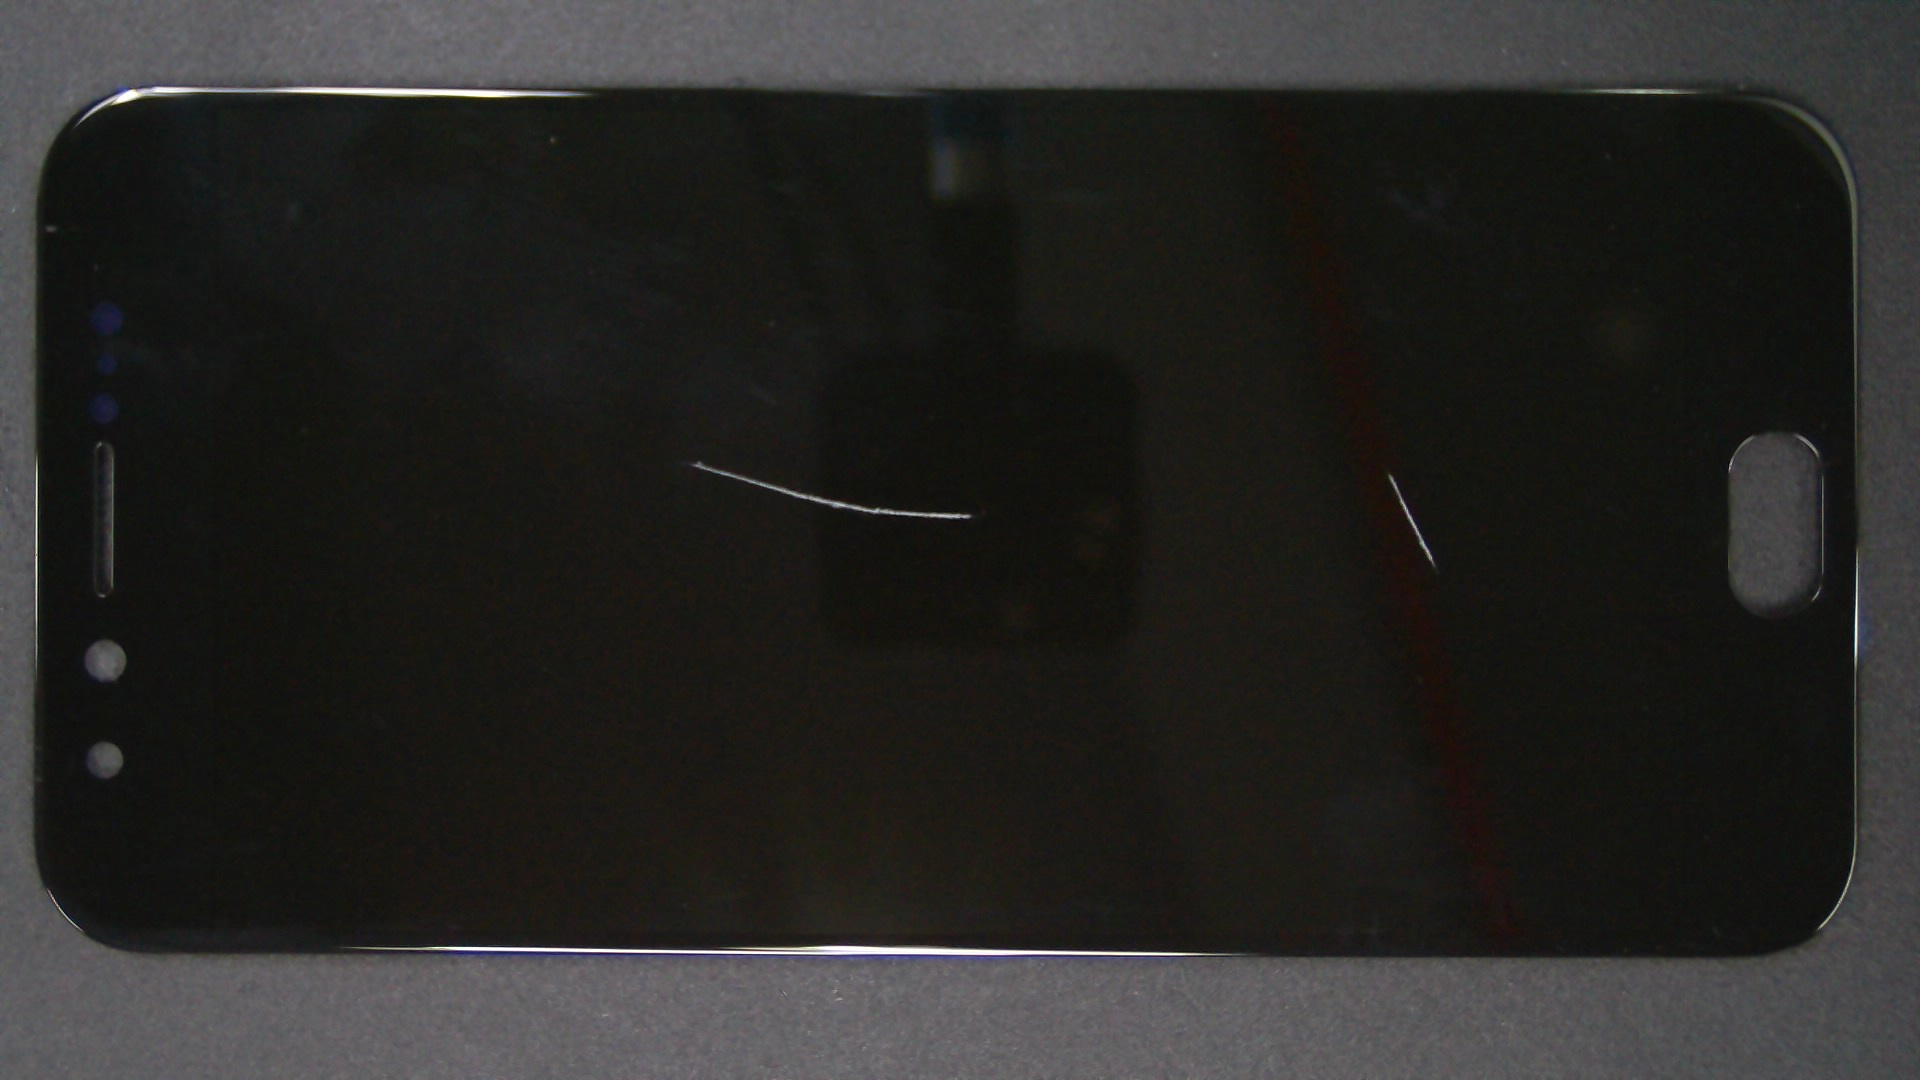oil: (695, 236, 1920, 709), (349, 229, 1047, 691)
